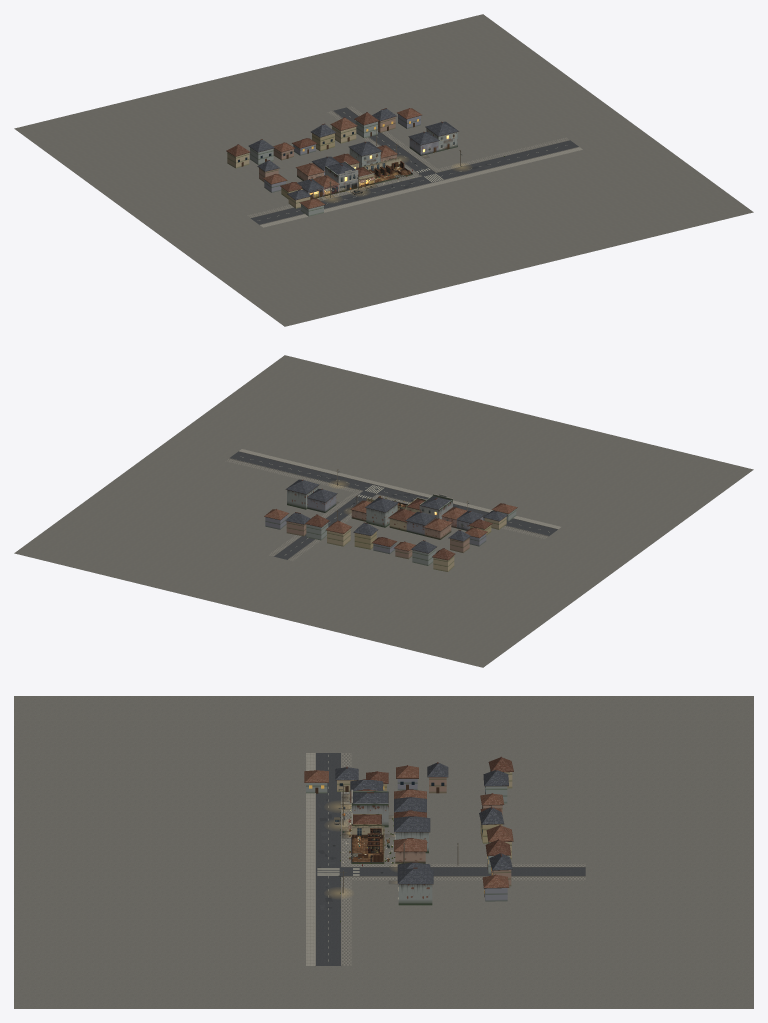
The model's file is biblioteca.glb.
3 views of the same model, one above another, from view 1: azimuth 30°, elevation 25°; view 2: azimuth 150°, elevation 25°; view 3: azimuth 270°, elevation 25° (orthographic). The views are drawn at different scales.
Bounding box in the file's own units: 220 × 10.18 × 220.
Materials: 564 (131 with a texture image).
